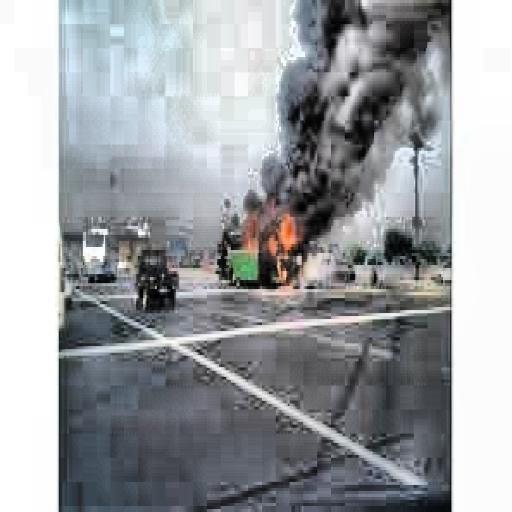fire: (221, 202, 310, 256)
